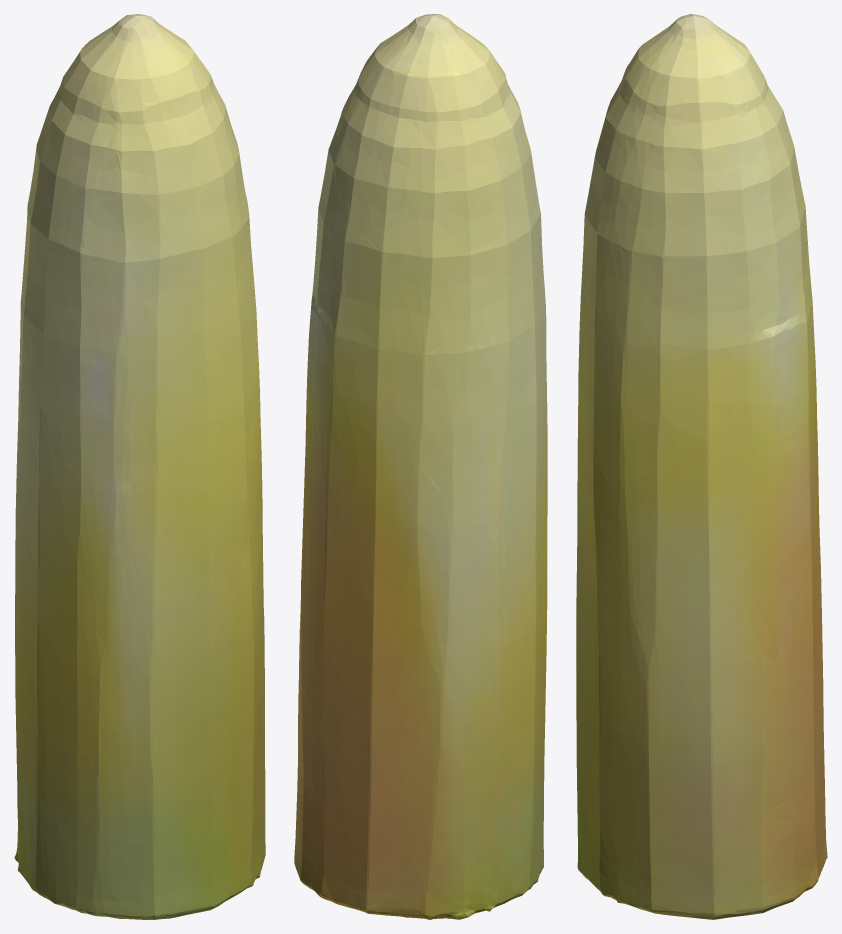
The picture shows the model from 3 angles, left to right: view 1: azimuth 30°, elevation 25°; view 2: azimuth 150°, elevation 25°; view 3: azimuth 270°, elevation 25°; orthographic projection.
Parts seen in each view (by area): view 1: world; view 2: world; view 3: world.
Boxes of the visible parts, x1,y1,x2,y2 form: world: (14,14,265,919); world: (294,14,547,919); world: (576,14,827,919).
Bounding box in the file's own units: 0.1201 × 0.4528 × 0.1204.
1 material, 1 textured.
